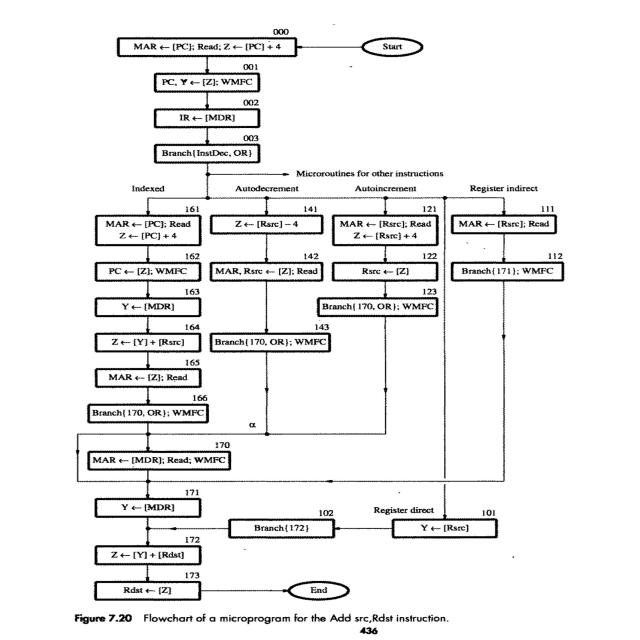diagram: (29, 12, 640, 627), (639, 188, 640, 189)
